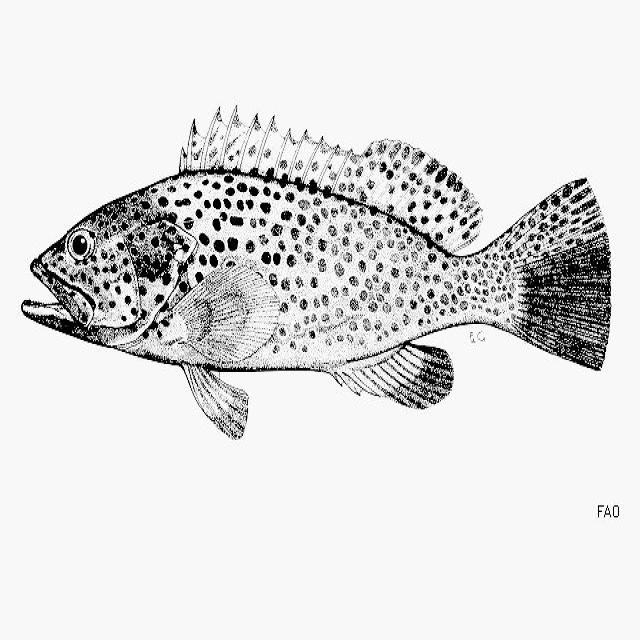ikan: (20, 103, 612, 440)
